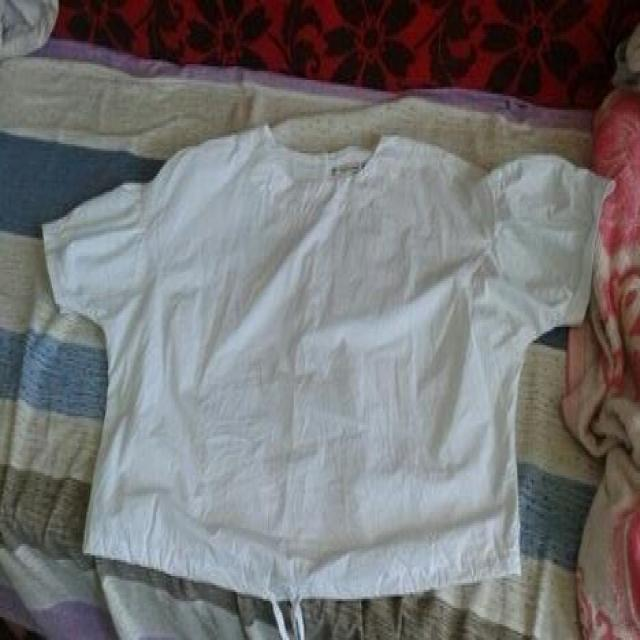short-sleeve-top: (19, 94, 626, 602)
